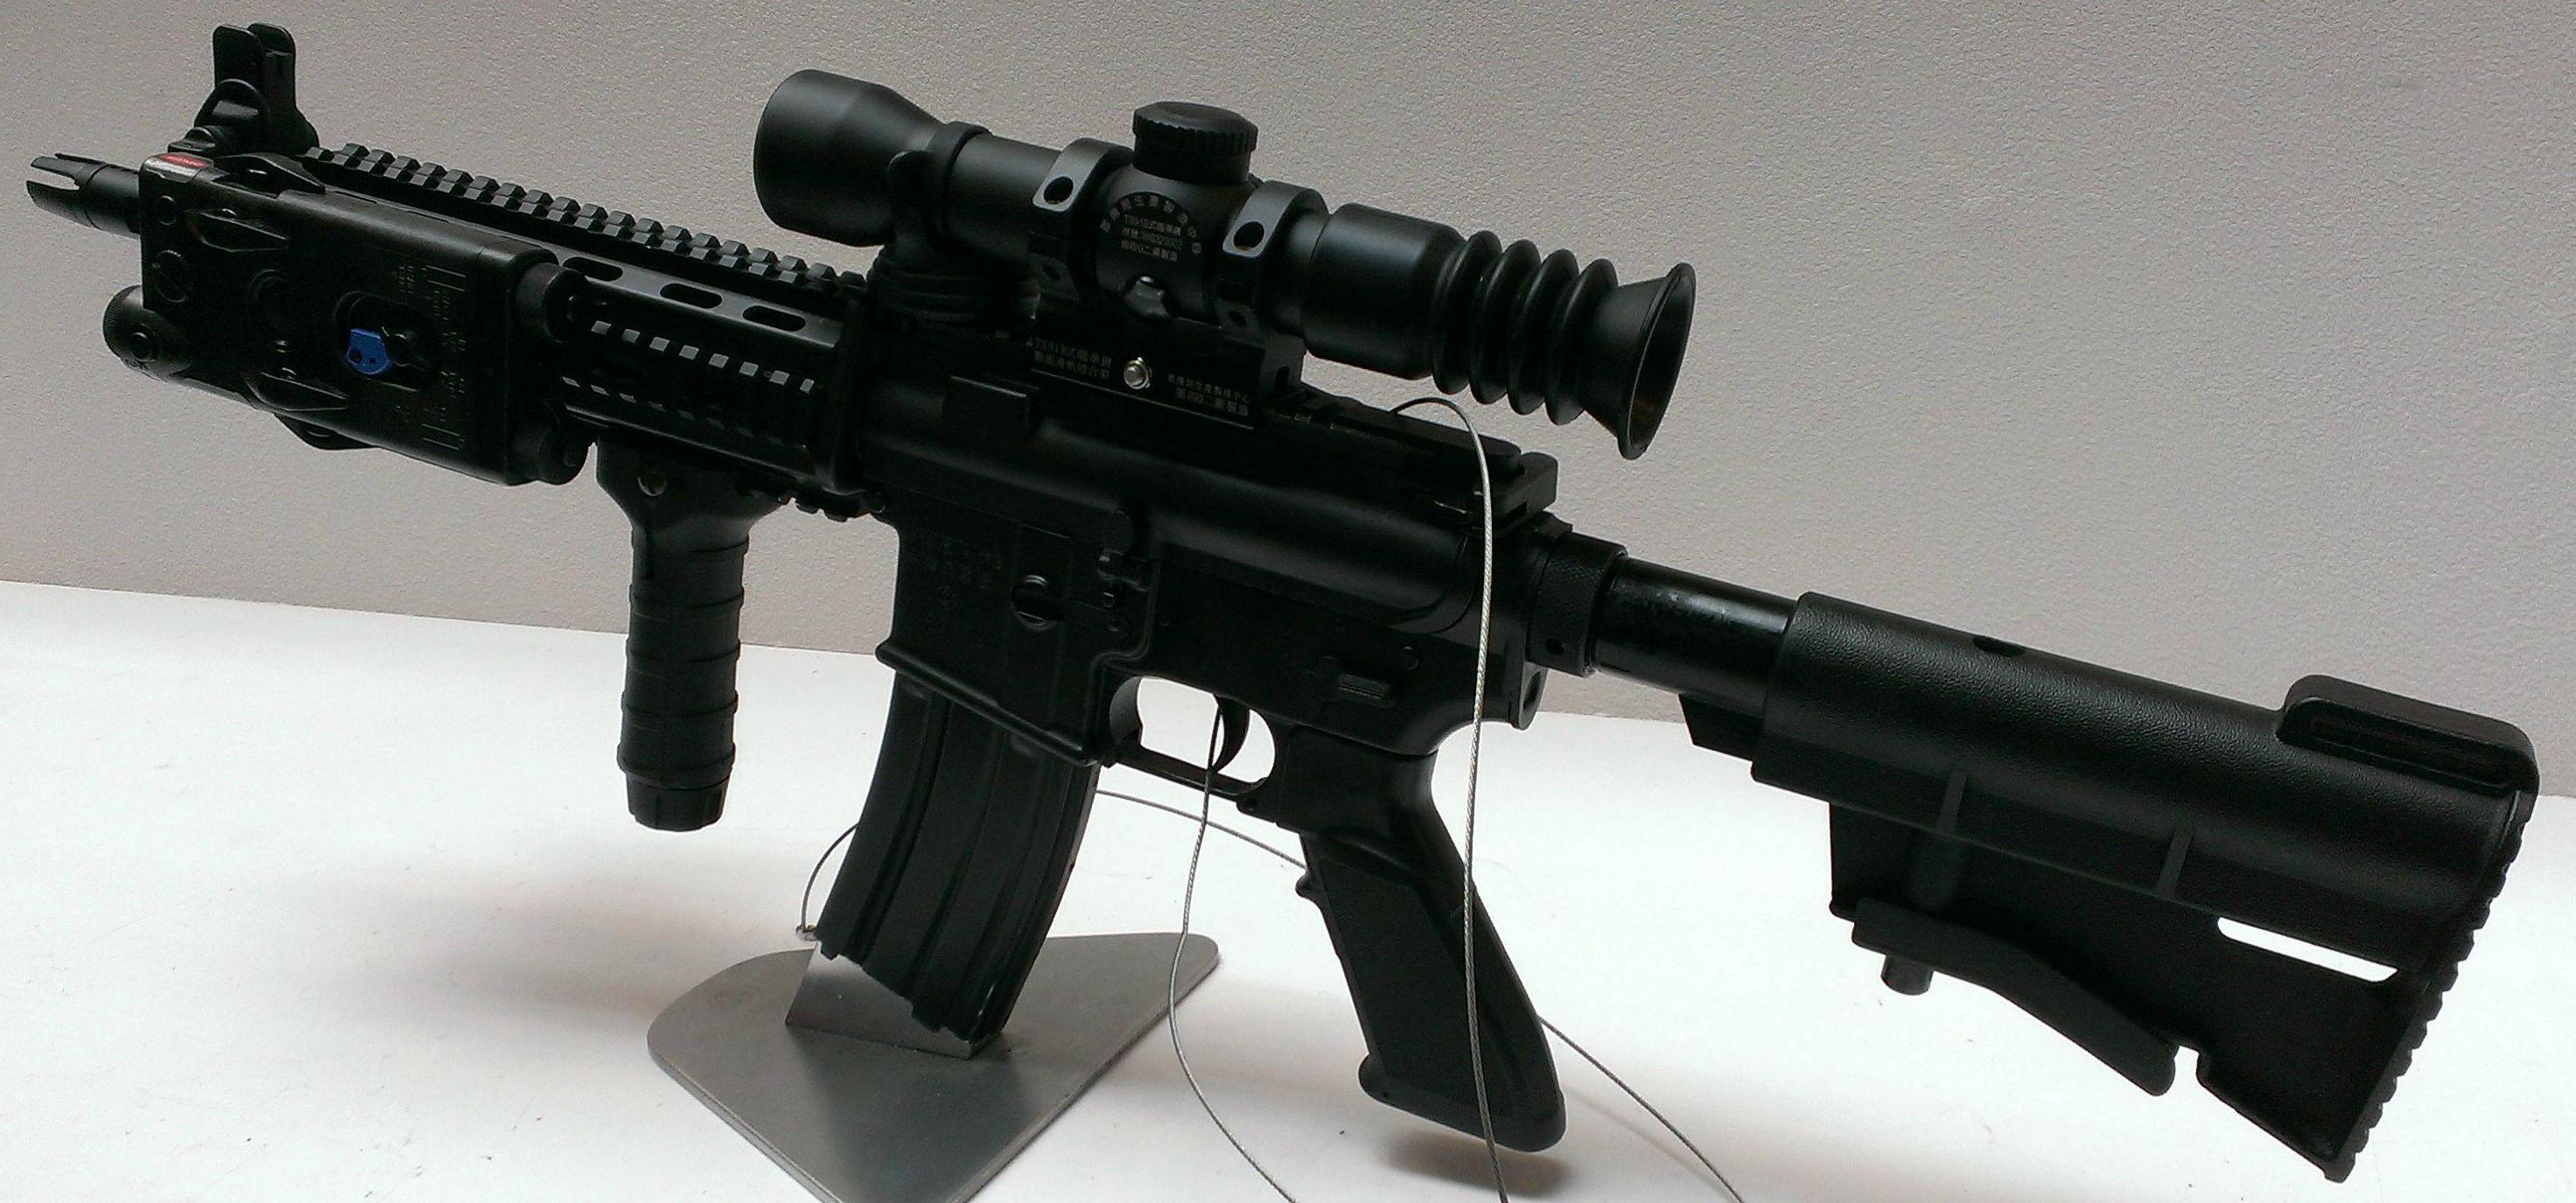gun: (0, 2, 2576, 1203)
